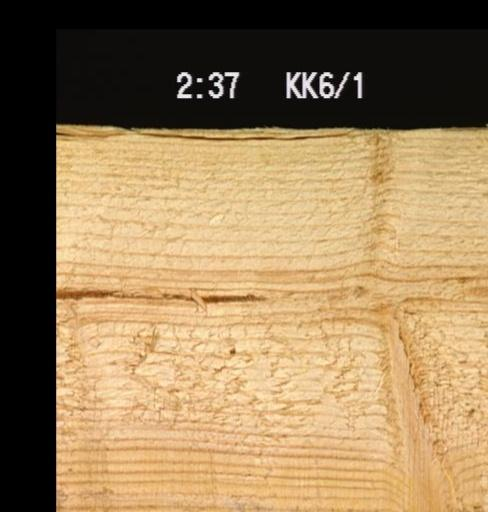split: (56, 127, 359, 145)
